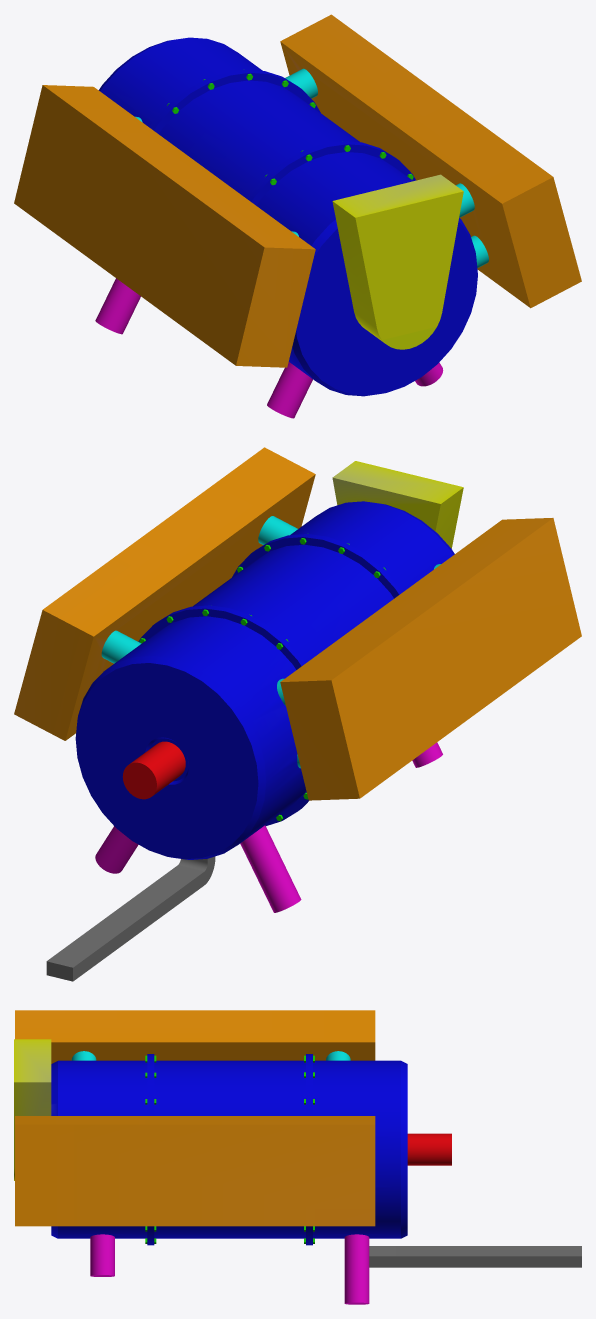
The model's file is Engine.fbx.
The picture shows the model from 3 angles, top to bottom: view 1: azimuth 30°, elevation 25°; view 2: azimuth 150°, elevation 25°; view 3: azimuth 270°, elevation 25°; orthographic projection. The views are drawn at different scales.
Parts seen in each view (by area): view 1: Motor; view 2: Motor; view 3: Motor.
Part boxes in pixels (x1,y1,x2,y2): Motor: (14, 14, 581, 418); Motor: (14, 447, 581, 981); Motor: (14, 1010, 581, 1304).
Bounding box in the file's own units: 522 × 378 × 913.
